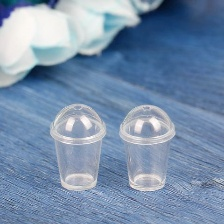glass: (48, 98, 111, 196), (116, 99, 177, 193)
